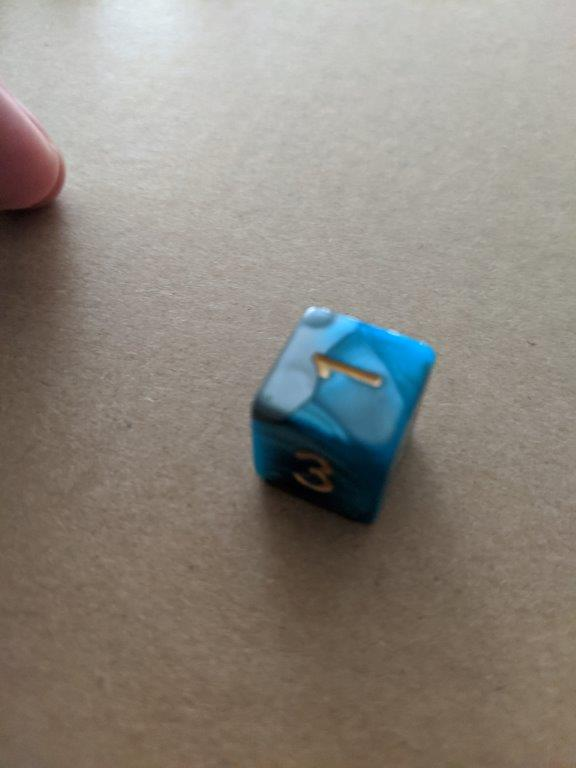d6-1: (250, 302, 437, 522)
